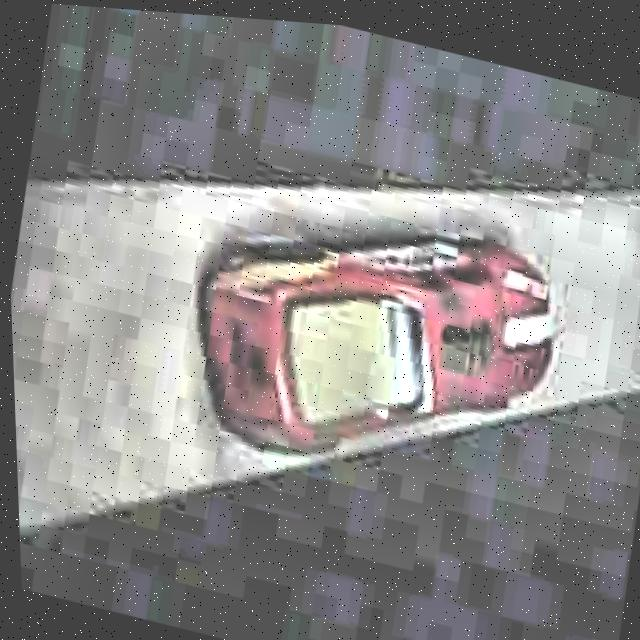car: (166, 162, 578, 519)
